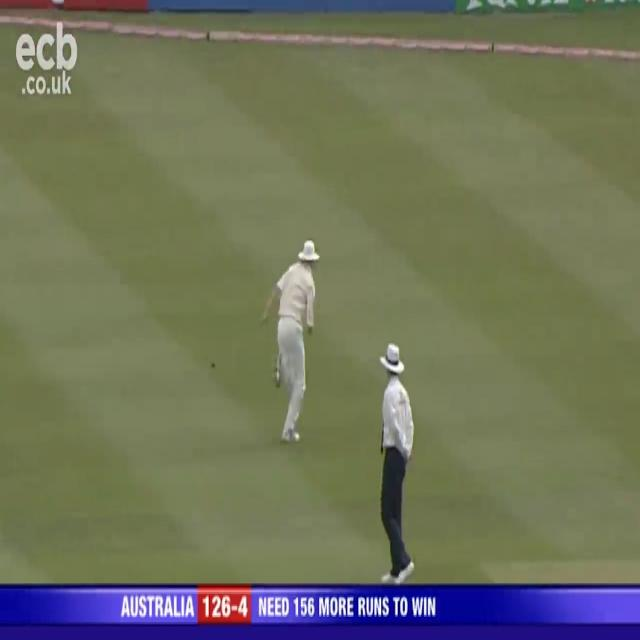ball: (205, 356, 219, 374)
